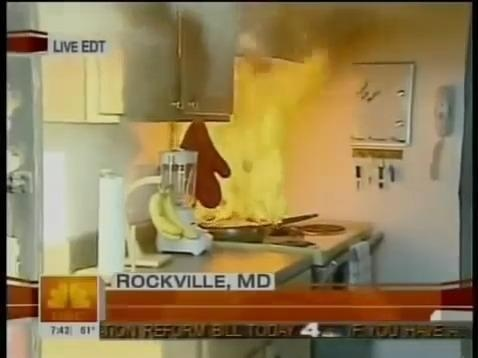fire: (184, 45, 302, 250)
